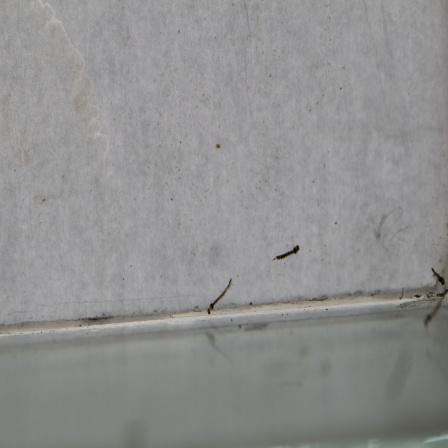Jentik-Nyamuk: (204, 277, 235, 316), (272, 243, 302, 265)
